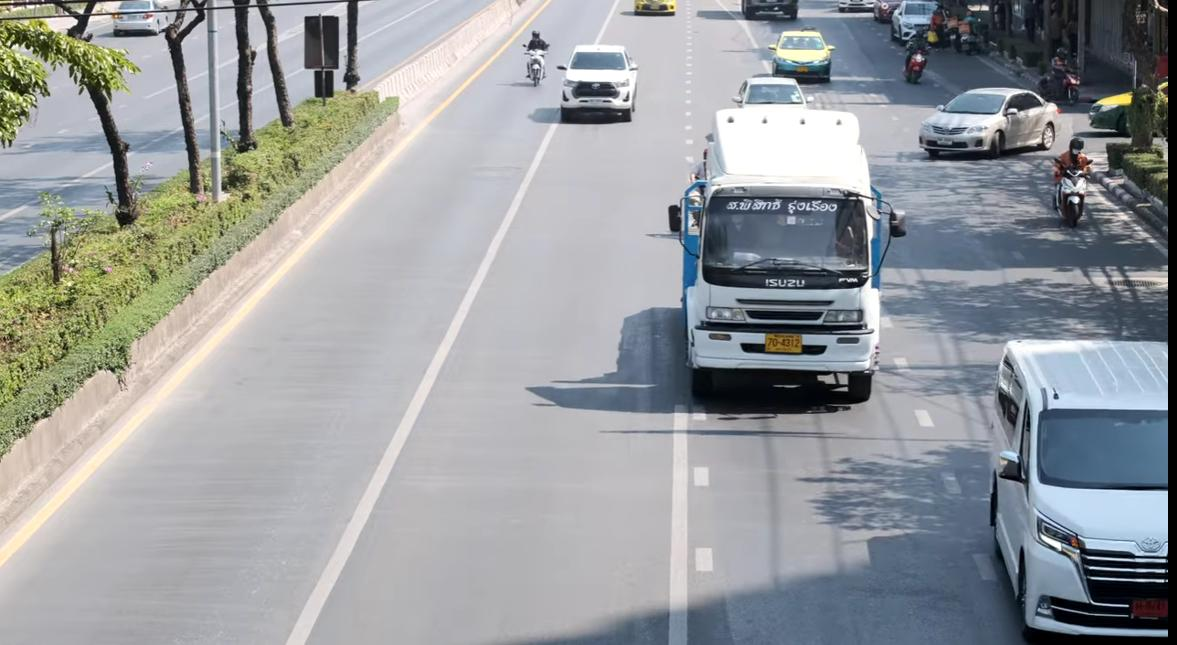car: (770, 16, 849, 89), (734, 62, 837, 114)
motorcycle: (1044, 117, 1117, 237), (509, 29, 575, 115), (898, 20, 942, 89)
truck: (664, 104, 968, 427)
van: (987, 316, 1177, 645)
